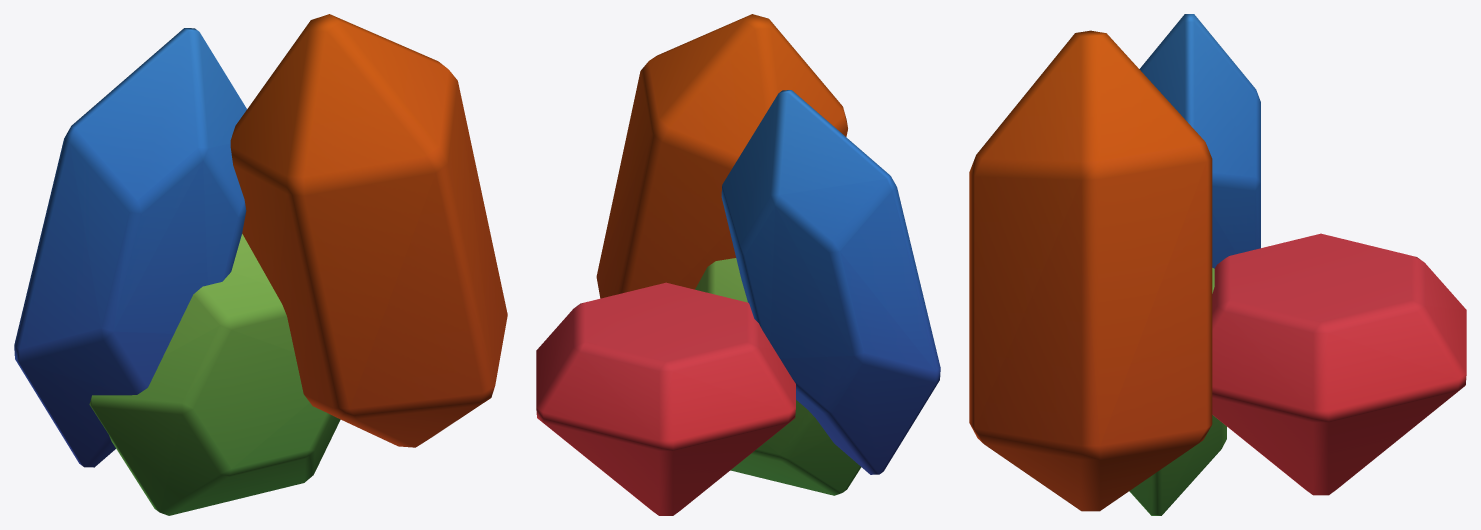
File: hl_gems.glb
3 renders of one model, left to right at view 1: azimuth 30°, elevation 25°; view 2: azimuth 150°, elevation 25°; view 3: azimuth 270°, elevation 25°, orthographic. The views are drawn at different scales.
Visible parts, largest first — view 1: hl_gems; view 2: hl_gems; view 3: hl_gems.
Part boxes in pixels (left/top/right/bottom): hl_gems: left=14, top=14, right=507, bottom=515; hl_gems: left=536, top=14, right=940, bottom=515; hl_gems: left=969, top=14, right=1466, bottom=515.
Size of the model in its own units: 1.5 by 1.61 by 1.51.
